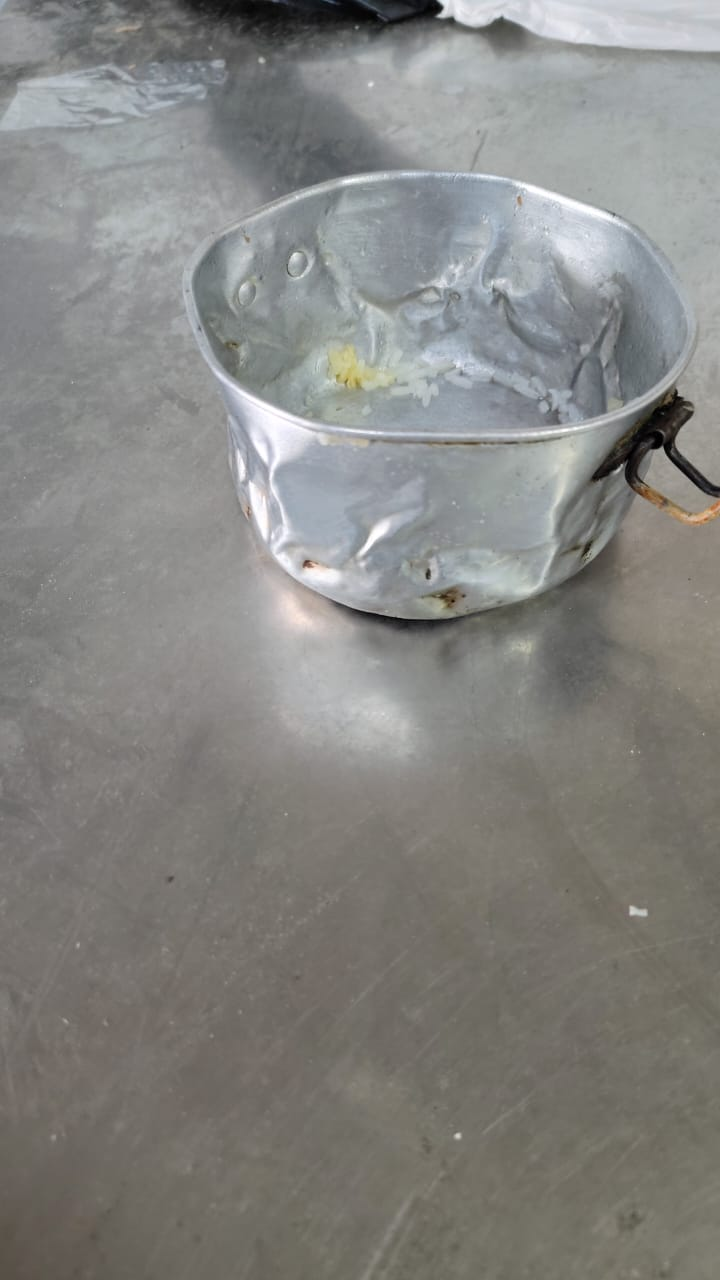Metal: (184, 168, 698, 621)
